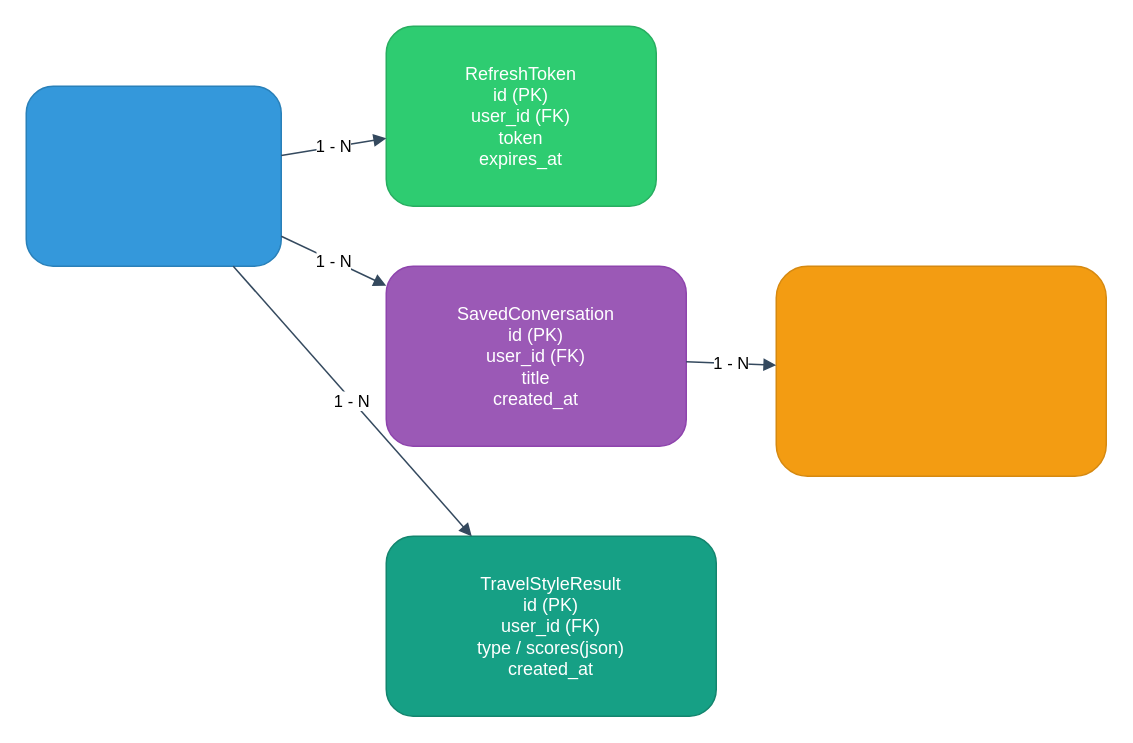
This 1133x743 diagram has some shape labels left out. The shapes that lost their labels are listed below. From the top down, each one's box as (x1, y1, x2, y2) in pixels, then its label:
(25, 85, 281, 266): User id (PK) email name provider created_at
(775, 265, 1106, 476): ConversationMessage id (PK) conversation_id (FK) role content created_at
